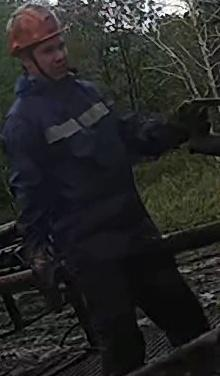gloves: (28, 242, 68, 312), (168, 99, 214, 145)
helmet: (6, 3, 65, 57)
vest: (1, 84, 166, 271)
